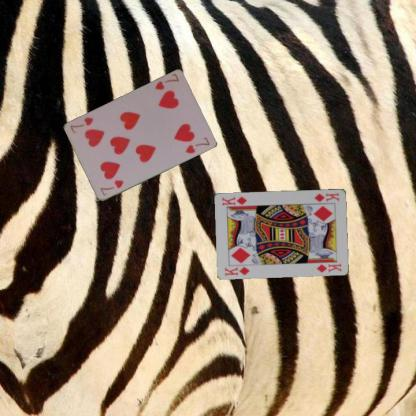7h: (152, 71, 180, 92), (98, 177, 124, 197)
Kd: (222, 264, 251, 277), (312, 190, 340, 203)
